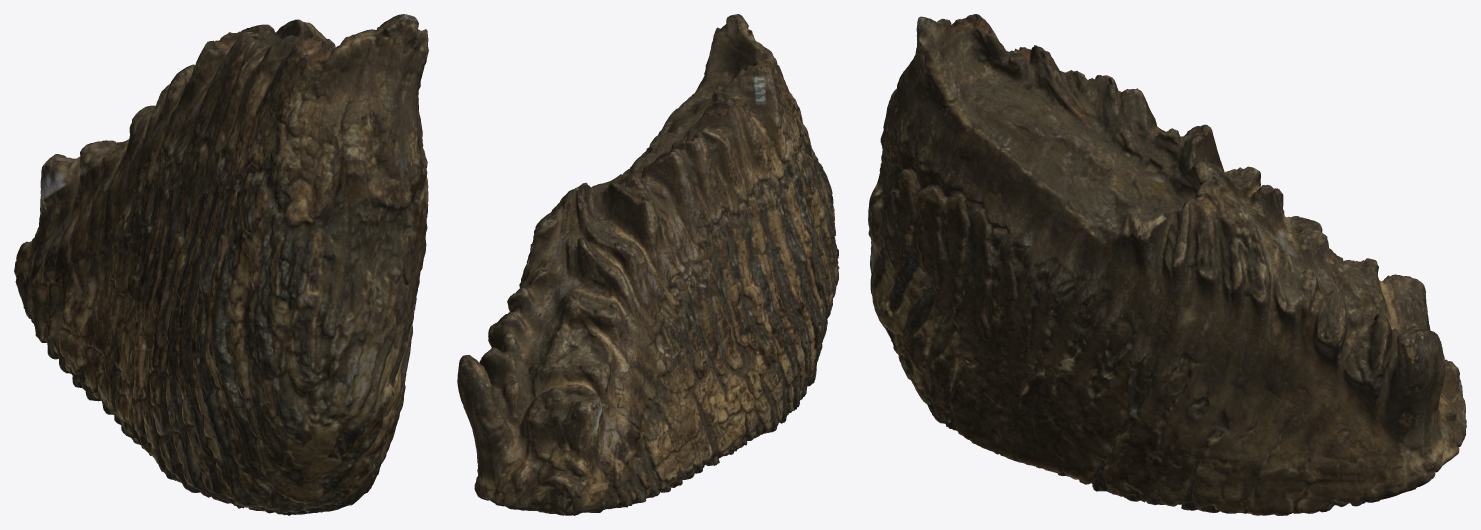
3 views of the same model, side by side, from view 1: azimuth 30°, elevation 25°; view 2: azimuth 150°, elevation 25°; view 3: azimuth 270°, elevation 25° (orthographic). The views are drawn at different scales.
Parts seen in each view (by area): view 1: specimen; view 2: specimen; view 3: specimen.
Part boxes in pixels (bbox=[...]): specimen: bbox=[14, 14, 428, 515]; specimen: bbox=[457, 14, 839, 515]; specimen: bbox=[868, 14, 1466, 515].
Bounding box in the file's own units: 0.108 × 0.1931 × 0.2273.
1 material, 1 textured.
